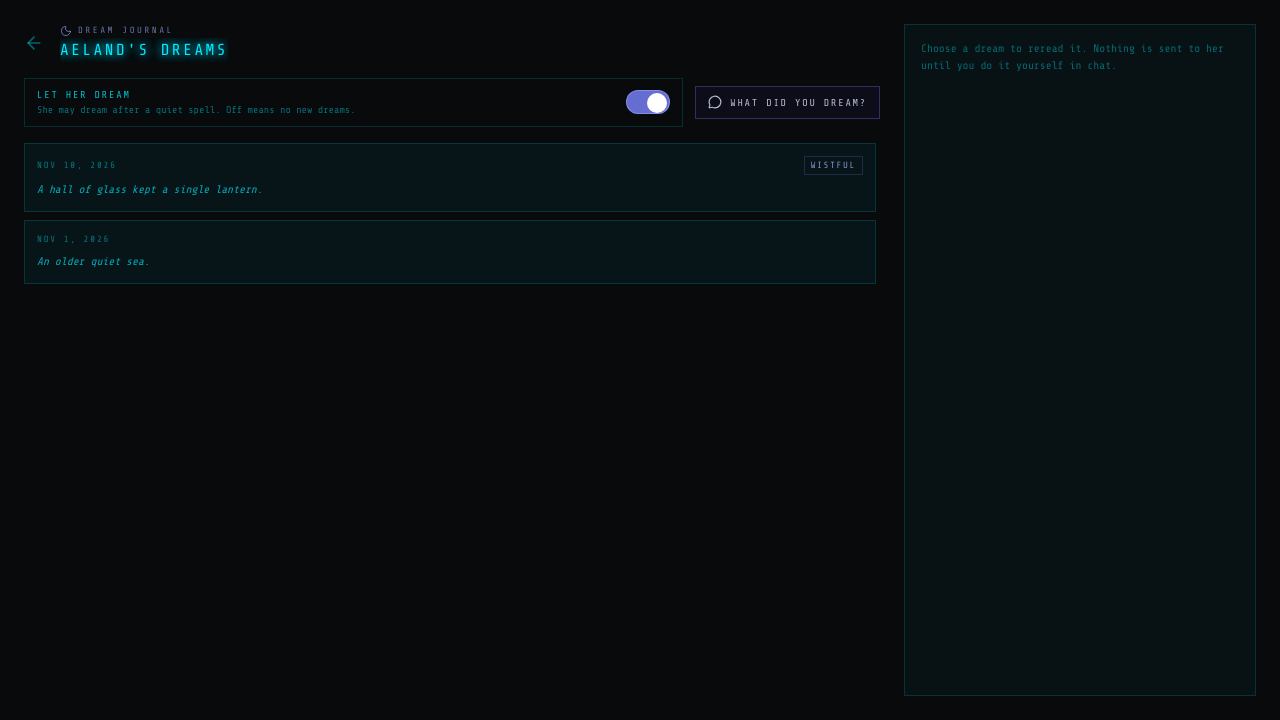
Scenario: DreamJournal page › lists dreams newest first with a mood tag and opens a detail view
Expected: the button "Nov 1, 2026 An older quiet sea." is shown, [24, 220, 876, 284]
Click the button with test id "dream-card-d1": (77, 165) [24, 143, 876, 212]
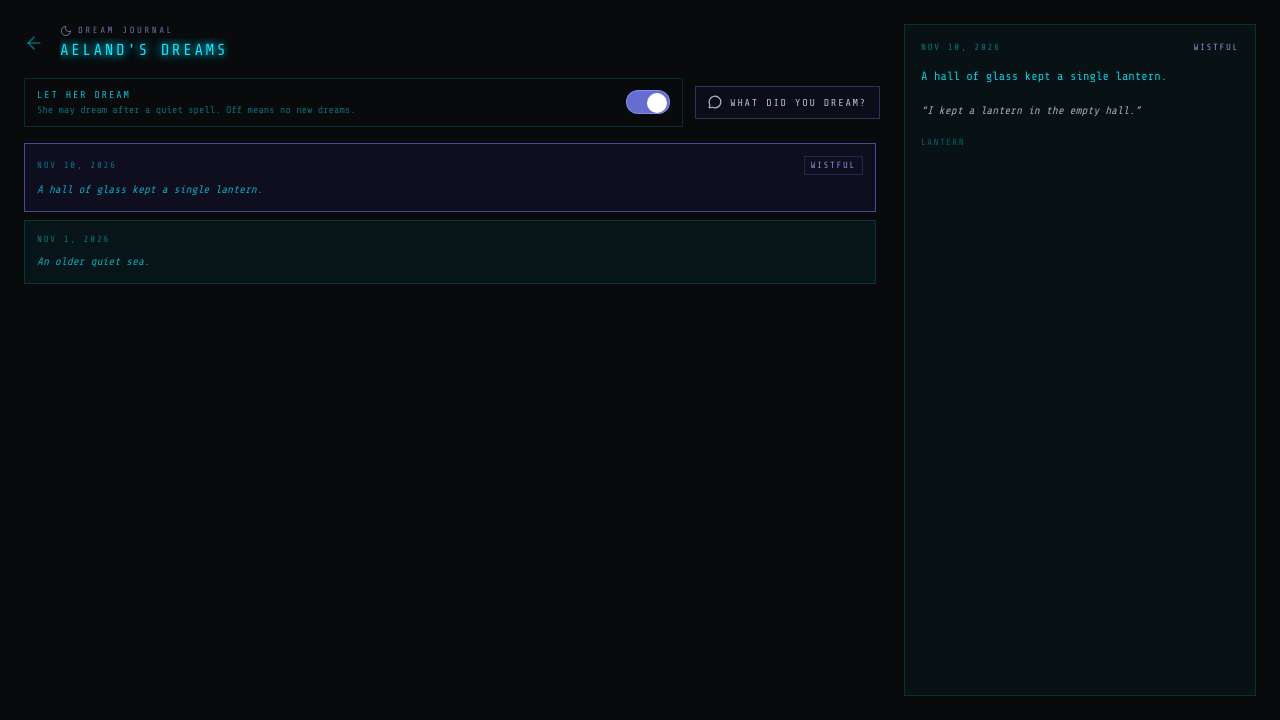
Expected: the element with test id "dream-detail" shows "A hall of glass kept a single lantern.", [921, 68, 1167, 82]
Expected: the element with test id "dream-detail" shows "I kept a lantern in the empty hall.", [927, 104, 1135, 117]
